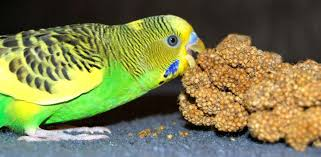budgie: (1, 12, 206, 139)
